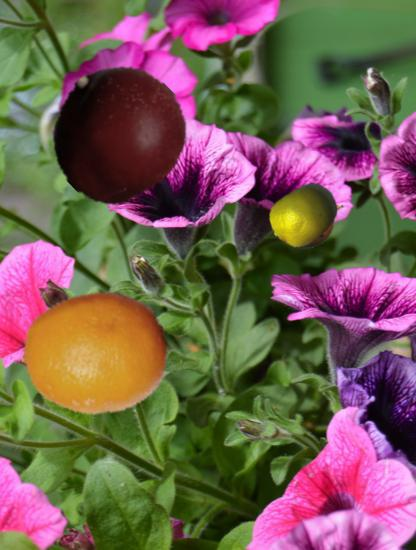Granadilla: (276, 185, 347, 256)
Lemon: (22, 282, 167, 427)
Nectarine: (47, 64, 186, 203)
Pomelo: (269, 180, 340, 251)
